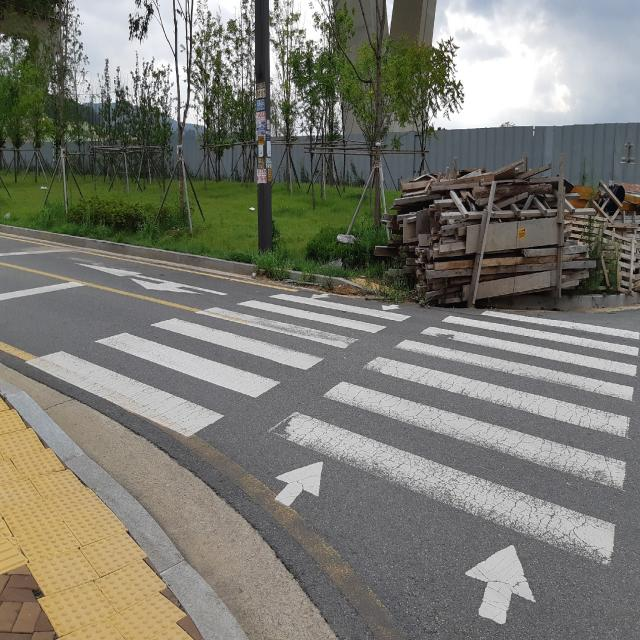횡단보도: (23, 292, 640, 628)
